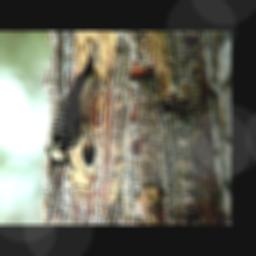Woodpecker: (42, 47, 105, 176)
